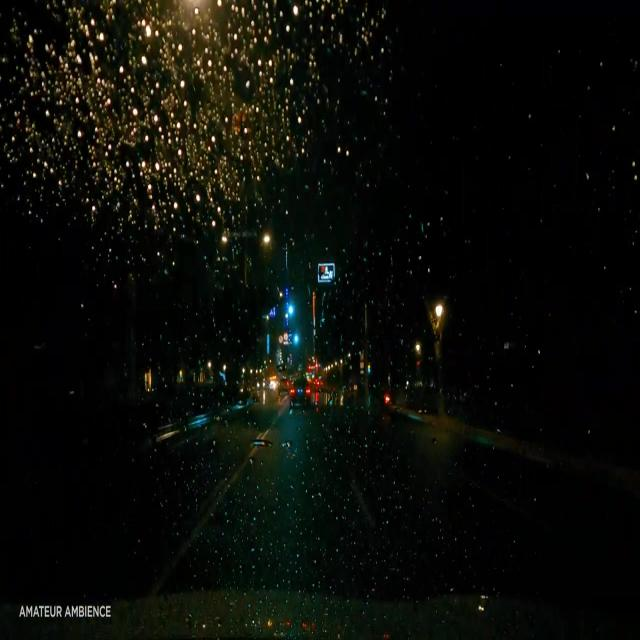Car: (288, 376, 311, 404)
